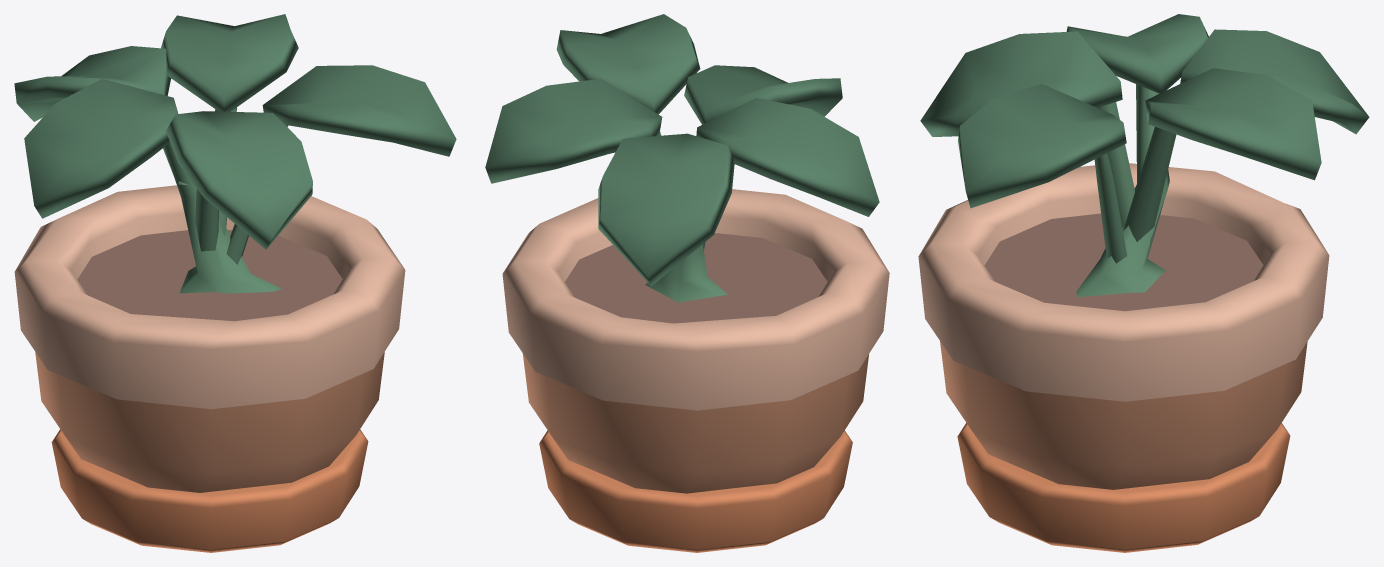
Rendered from flower_016.fbx.
3 renders of one model, left to right at view 1: azimuth 30°, elevation 25°; view 2: azimuth 150°, elevation 25°; view 3: azimuth 270°, elevation 25°, orthographic. The views are drawn at different scales.
Parts seen in each view (by area): view 1: flower_016; view 2: flower_016; view 3: flower_016.
Boxes of the visible parts, <box> form: flower_016: <box>14,14,456,552</box>; flower_016: <box>485,14,889,552</box>; flower_016: <box>918,14,1369,552</box>.
Bounding box in the file's own units: 40.42 × 42.04 × 44.42.
